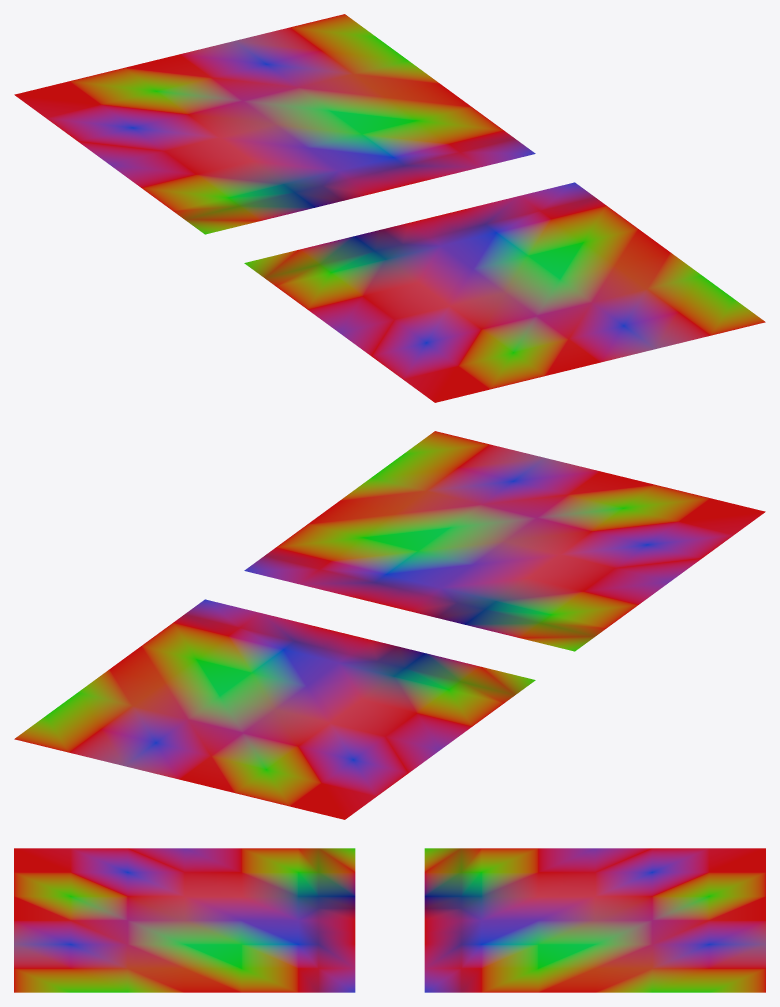
Rendered from Hanger_Outside_Ground.fbx.
3 renders of one model, top to bottom at view 1: azimuth 30°, elevation 25°; view 2: azimuth 150°, elevation 25°; view 3: azimuth 270°, elevation 25°, orthographic. The views are drawn at different scales.
Parts seen in each view (by area): view 1: Hanger_Outside_Ground; view 2: Hanger_Outside_Ground; view 3: Hanger_Outside_Ground.
Boxes of the visible parts, left/top/right/bottom form: Hanger_Outside_Ground: left=14, top=14, right=765, bottom=402; Hanger_Outside_Ground: left=14, top=431, right=765, bottom=819; Hanger_Outside_Ground: left=14, top=848, right=765, bottom=992.
Size of the model in its own units: 39187 by 0 by 86363.
